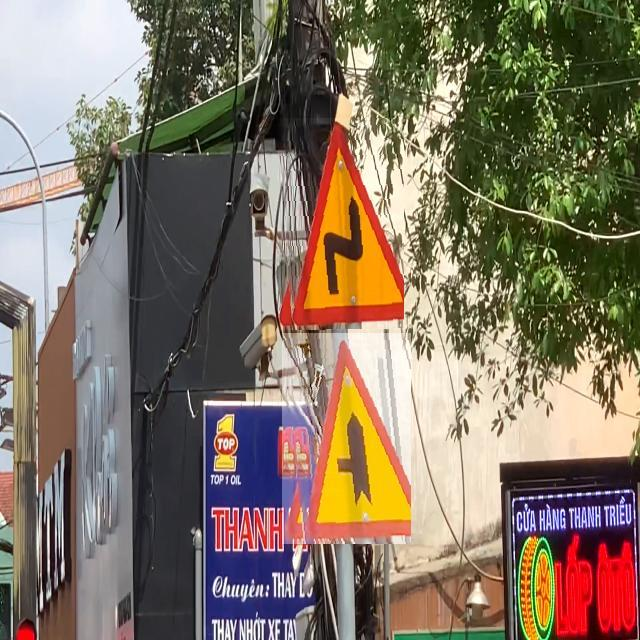W-202b: (278, 118, 404, 330)
W-207c: (282, 333, 411, 544)
